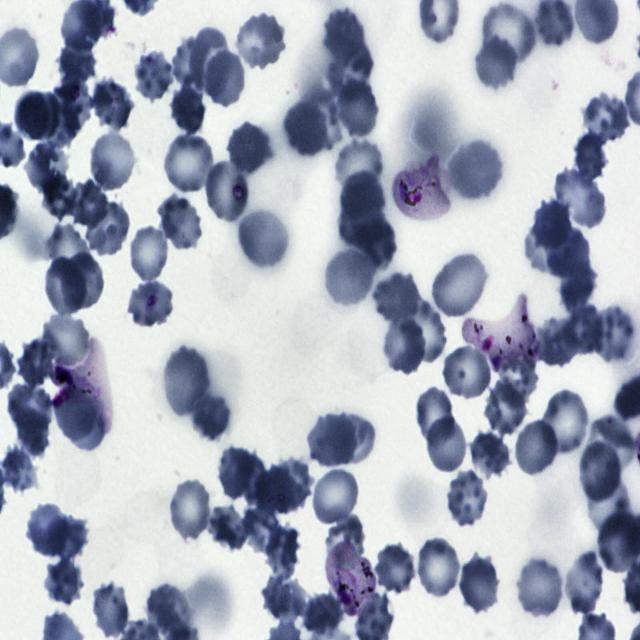red blood cell: (433, 254, 485, 318), (163, 346, 210, 416), (401, 296, 448, 364), (482, 4, 536, 63), (449, 140, 502, 200), (440, 344, 494, 401), (380, 314, 428, 378), (554, 168, 606, 226), (49, 77, 92, 146), (324, 248, 376, 305), (412, 384, 458, 448), (238, 209, 288, 267), (542, 391, 588, 454), (83, 199, 132, 258), (424, 414, 470, 476), (46, 222, 92, 284), (42, 256, 87, 319), (371, 270, 420, 326), (268, 457, 316, 514), (483, 379, 529, 438), (164, 136, 213, 191), (590, 412, 634, 473), (327, 42, 374, 99), (308, 412, 356, 467), (588, 475, 632, 535), (206, 160, 249, 221), (322, 6, 367, 64), (237, 14, 285, 68), (335, 139, 382, 194), (518, 559, 563, 616), (90, 133, 135, 190), (579, 442, 621, 503), (25, 502, 70, 558), (338, 76, 380, 136), (62, 247, 103, 308), (226, 121, 274, 173), (170, 479, 210, 541), (534, 314, 578, 370), (189, 27, 228, 90), (90, 77, 134, 132), (158, 195, 202, 250), (203, 50, 246, 106), (340, 170, 386, 222), (313, 471, 358, 524), (132, 48, 176, 102), (525, 224, 574, 272), (41, 312, 88, 362), (330, 412, 376, 463), (7, 384, 51, 437), (418, 538, 458, 596), (566, 551, 602, 615), (460, 555, 499, 614), (582, 92, 628, 142), (545, 228, 591, 278), (517, 420, 558, 476), (146, 583, 190, 635), (260, 573, 306, 622), (284, 105, 328, 156), (13, 90, 56, 142), (216, 446, 258, 499), (475, 36, 517, 88), (231, 448, 270, 504), (448, 471, 487, 526), (241, 505, 283, 556), (130, 226, 168, 282), (594, 306, 632, 362), (532, 199, 572, 252), (39, 171, 79, 223), (338, 201, 384, 246), (128, 283, 173, 328), (26, 144, 69, 191), (358, 220, 398, 270), (93, 583, 129, 638), (172, 36, 210, 88), (468, 430, 510, 477), (56, 38, 98, 85), (53, 392, 95, 439), (43, 558, 83, 606), (560, 260, 596, 313), (67, 400, 105, 450), (326, 514, 364, 564), (256, 464, 294, 514), (265, 525, 299, 580), (376, 544, 414, 593), (48, 515, 88, 561), (16, 337, 54, 385), (566, 306, 604, 354), (170, 85, 206, 134), (208, 505, 247, 550), (192, 394, 230, 440), (73, 176, 107, 227), (302, 592, 342, 635), (573, 132, 606, 183), (19, 406, 50, 459)
trophozoite: (464, 294, 540, 373), (50, 338, 111, 434), (326, 543, 376, 616), (392, 158, 448, 220)
